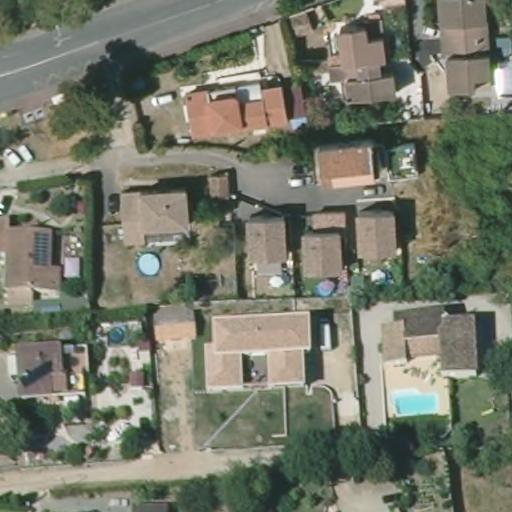pool: (389, 389, 441, 418), (132, 251, 165, 278)
